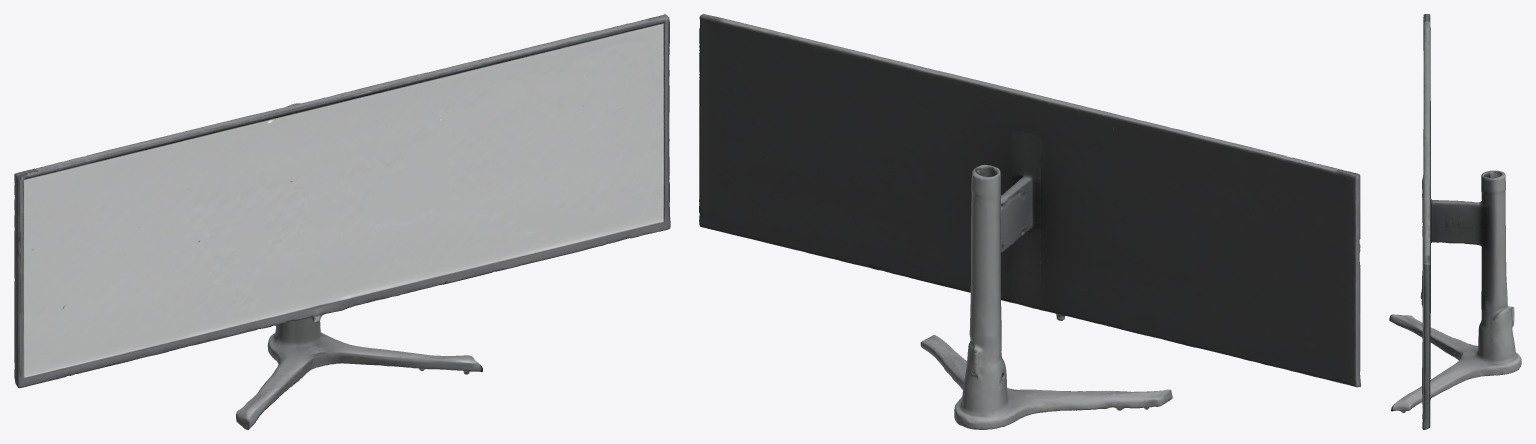
Rendered from monitor.fbx.
The picture shows the model from 3 angles, left to right: view 1: azimuth 30°, elevation 25°; view 2: azimuth 150°, elevation 25°; view 3: azimuth 270°, elevation 25°; orthographic projection. The views are drawn at different scales.
Visible parts, largest first — view 1: Mesh_0; view 2: Mesh_0; view 3: Mesh_0.
Part boxes in pixels (x1,y1,x2,y2): Mesh_0: (14, 14, 670, 429); Mesh_0: (699, 14, 1360, 429); Mesh_0: (1389, 14, 1521, 429).
Size of the model in its own units: 200 by 86.64 by 44.68.
